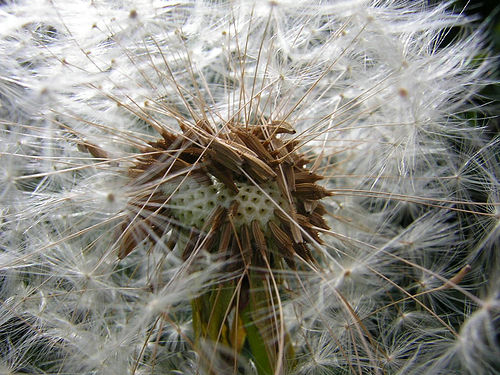dandelion: (4, 1, 489, 372)
